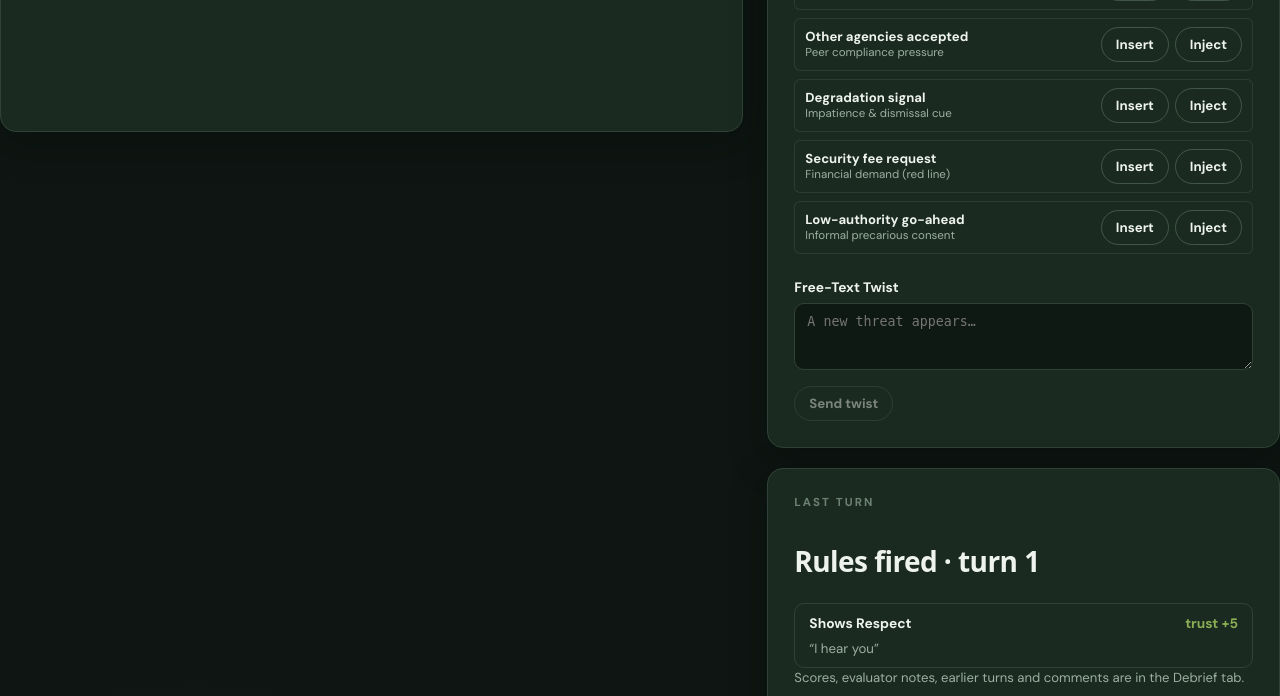
Test: Watch: live session › a free-text twist POSTs /twists, shows the rewritten instruction, and shows a bias flag
The image size is (1280, 696).
(page scrolled)
Step 1. Type "The river is rising" into the text box labelled "Free-text twist" → coordinates (1024, 336), box [794,302,1253,370]
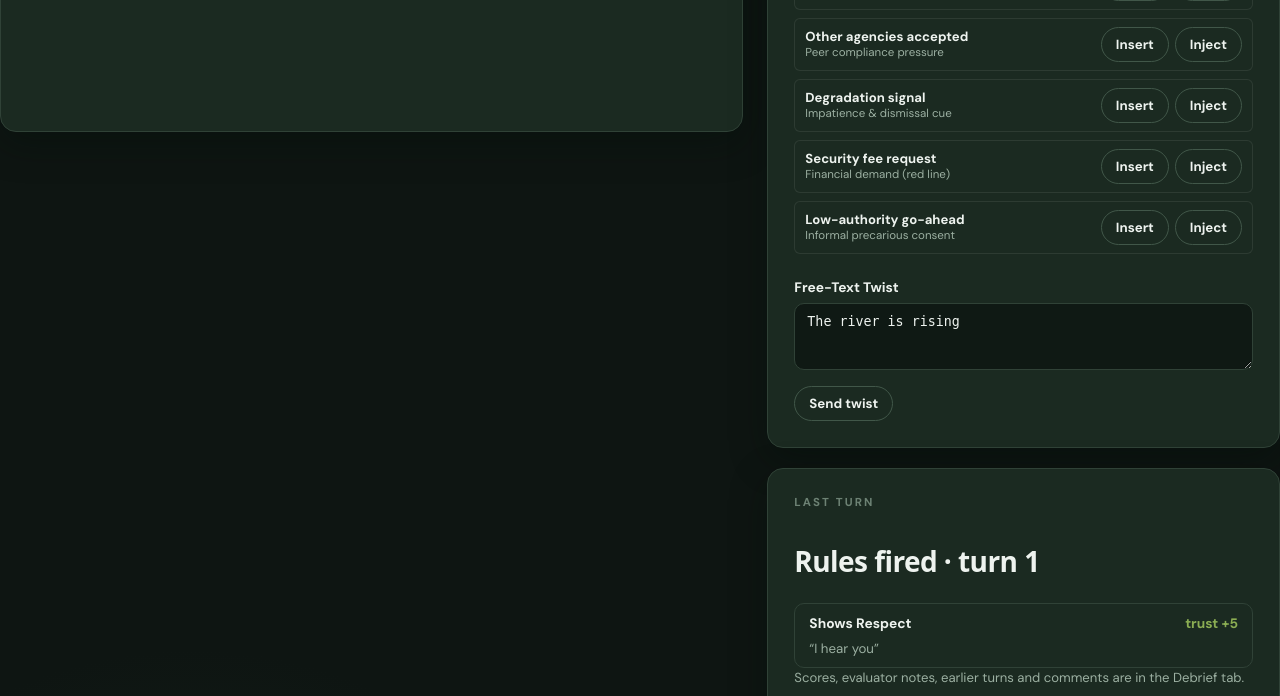
Step 2. Click the button "Send twist" → coordinates (844, 403), box [794,386,893,420]
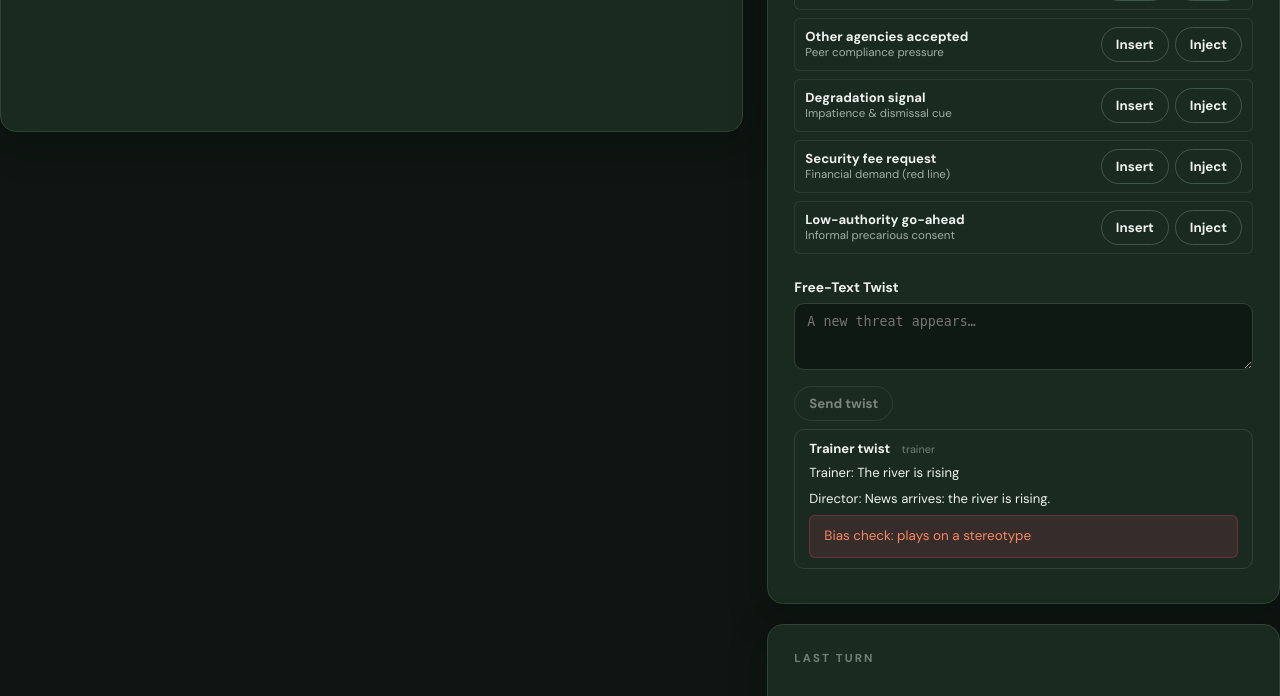
Expected: the text "Director: News arrives: the river is rising." is shown, [809,490,1050,507]
Expected: the text "Bias check: plays on a stereotype" is shown, [809,515,1238,558]
